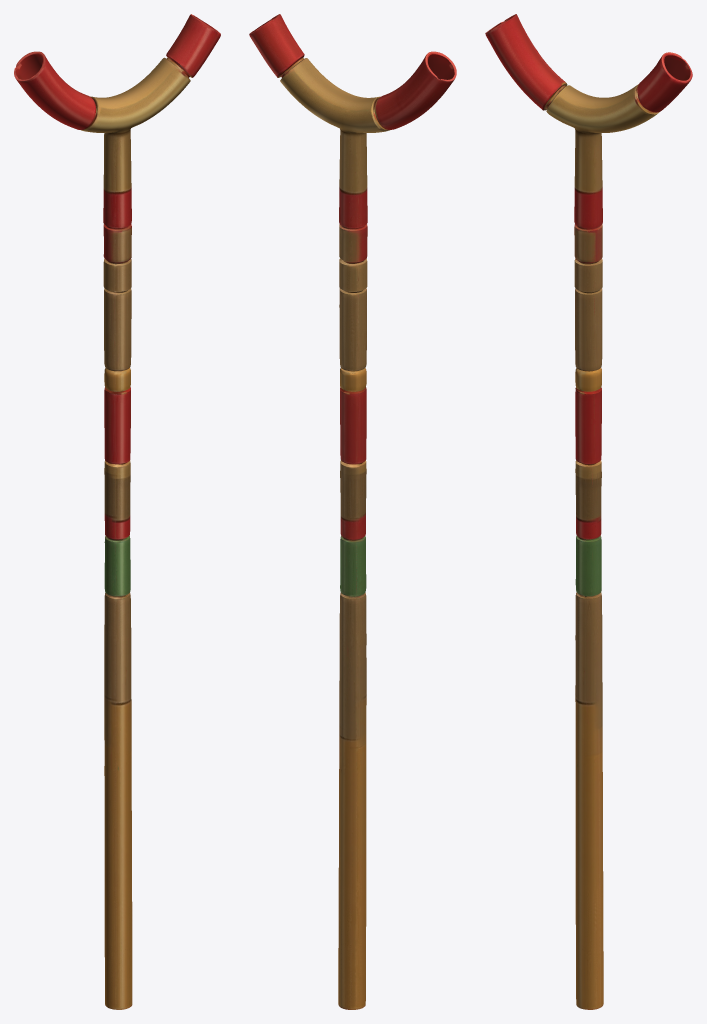
The model's file is Meshy_AI_Golden_Forked_Staff_0920000131_texture.fbx.
The picture shows the model from 3 angles, left to right: view 1: azimuth 30°, elevation 25°; view 2: azimuth 150°, elevation 25°; view 3: azimuth 330°, elevation 25°; orthographic projection.
Visible parts, largest first — view 1: Mesh0; view 2: Mesh0; view 3: Mesh0.
Part boxes in pixels (x1,y1,x2,y2): Mesh0: [14, 14, 220, 1009]; Mesh0: [249, 14, 456, 1009]; Mesh0: [485, 14, 692, 1009].
Size of the model in its own units: 32.56 by 150 by 5.34.
Materials: 1 (1 with a texture image).
